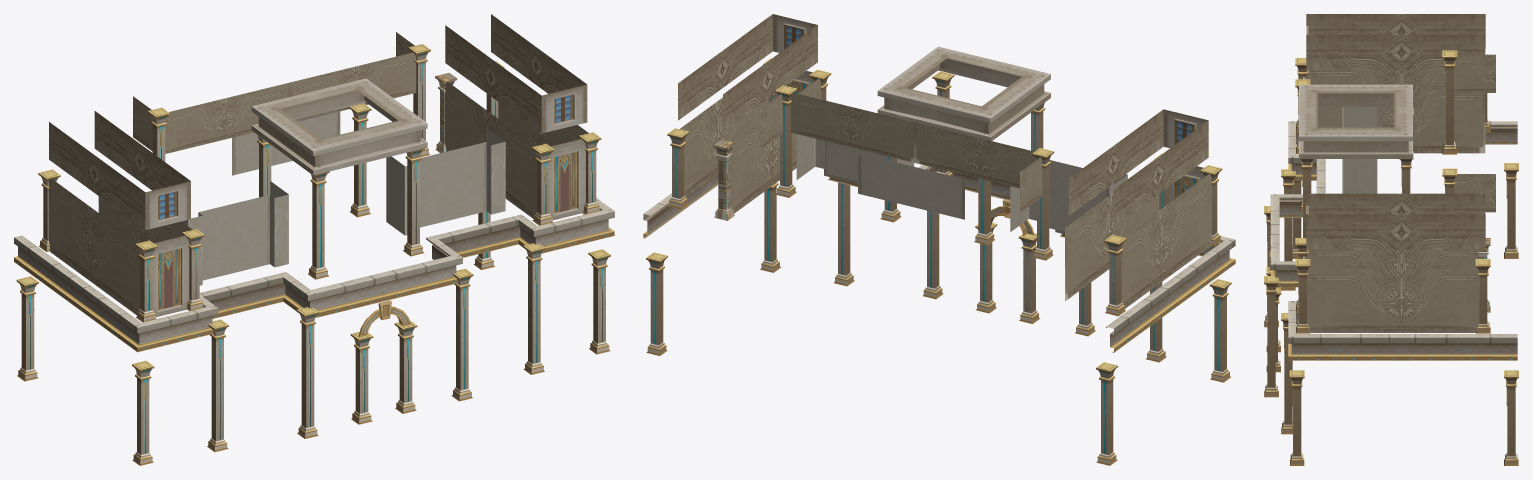
Rendered from zhucheng_wangcheng01.FBX.
3 views of the same model, side by side, from view 1: azimuth 30°, elevation 25°; view 2: azimuth 150°, elevation 25°; view 3: azimuth 270°, elevation 25° (orthographic). The views are drawn at different scales.
Visible parts, largest first — view 1: zhucheng_wangcheng01; view 2: zhucheng_wangcheng01; view 3: zhucheng_wangcheng01.
Boxes of the visible parts, x1,y1,x2,y2 form: zhucheng_wangcheng01: (14, 14, 614, 465); zhucheng_wangcheng01: (643, 14, 1235, 465); zhucheng_wangcheng01: (1264, 14, 1518, 465).
Bounding box in the file's own units: 3033 × 1625 × 1508.
